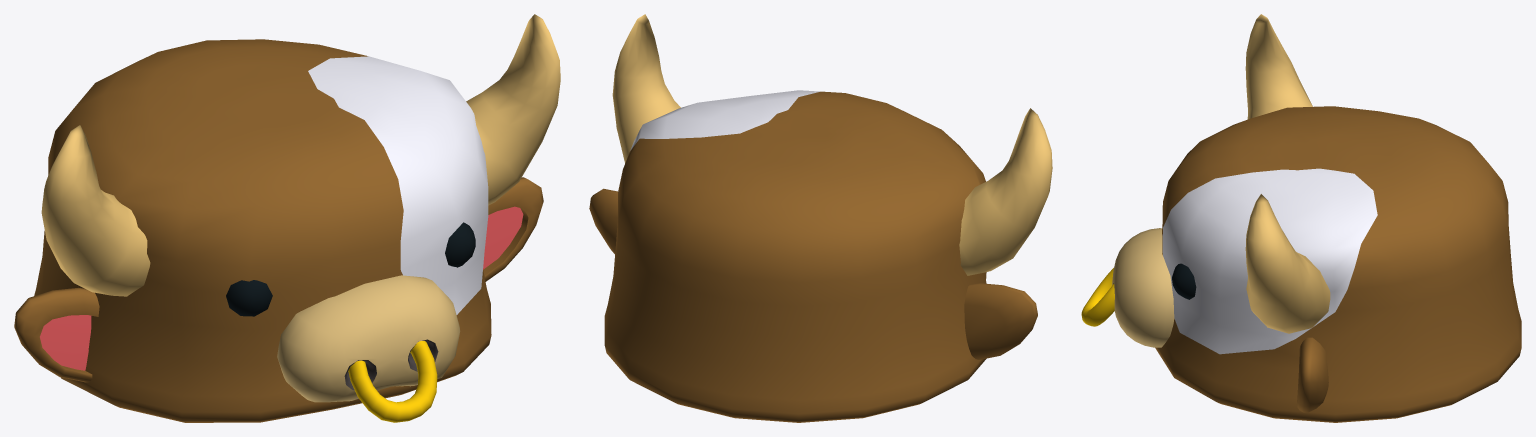
Rendered from Hat_55_02.fbx.
3 renders of one model, left to right at view 1: azimuth 30°, elevation 25°; view 2: azimuth 150°, elevation 25°; view 3: azimuth 270°, elevation 25°, orthographic. The views are drawn at different scales.
Visible parts, largest first — view 1: Hat_55_02; view 2: Hat_55_02; view 3: Hat_55_02.
Part boxes in pixels (x1,y1,x2,y2): Hat_55_02: (14, 14, 560, 422); Hat_55_02: (589, 14, 1052, 422); Hat_55_02: (1081, 14, 1521, 422).
Bounding box in the file's own units: 49.71 × 27.04 × 44.34.
